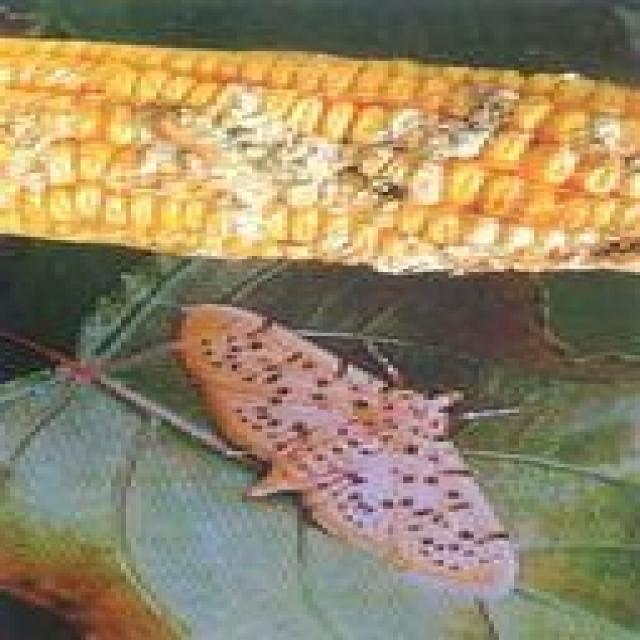peach borer: (165, 295, 523, 622)
